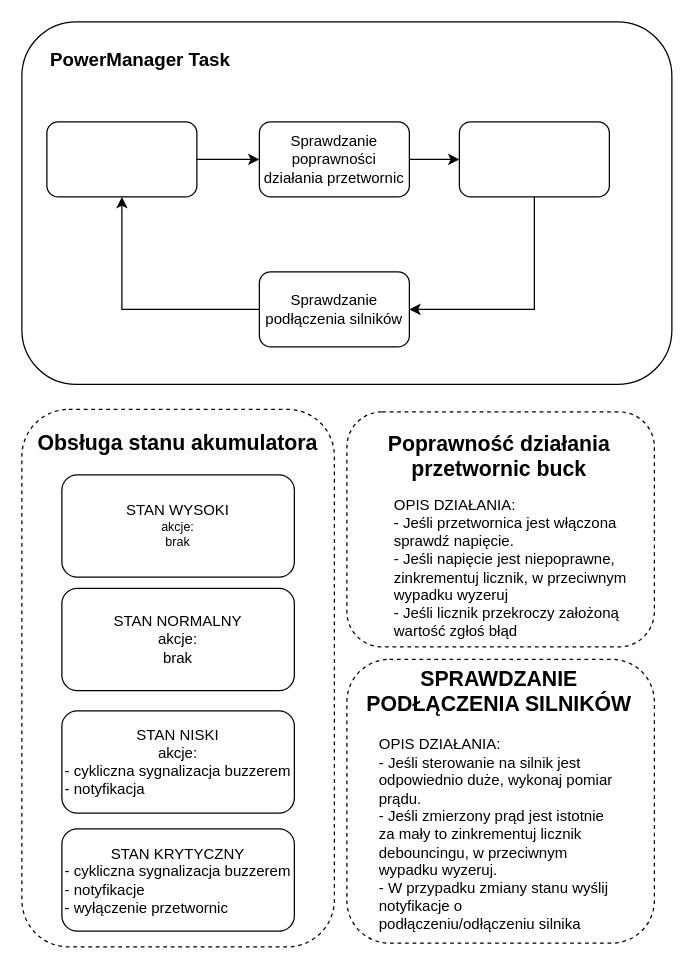
Some shapes in this 694 by 969 pixel diagram are drawn without their labels. The centre of each missing label's shape, as x and y in pixels:
Obsługa stanu naładowania akumulatora: pixel 533 159
Sprawdzanie poziomu akumulatora / aktualizacja stanu: pixel 121 159
